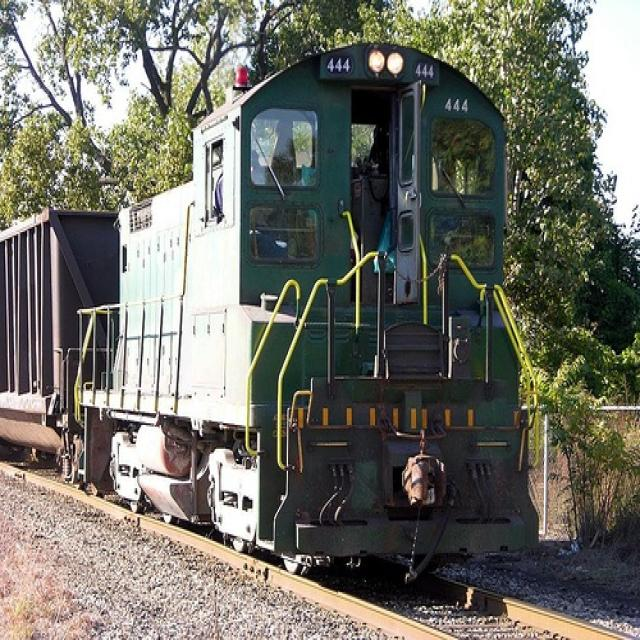train: (0, 41, 543, 561)
